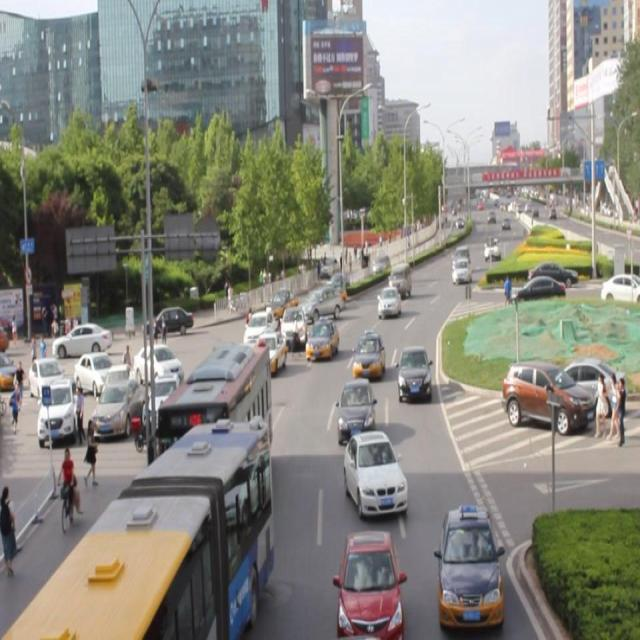BigCar: (17, 425, 284, 640), (152, 338, 268, 431)
car: (438, 498, 508, 636), (332, 527, 404, 639), (502, 359, 594, 435), (342, 433, 409, 513), (396, 340, 440, 404), (93, 381, 137, 436), (335, 378, 377, 431), (41, 383, 78, 438), (352, 325, 390, 378), (51, 320, 109, 354), (134, 342, 182, 383), (306, 318, 339, 366), (141, 304, 192, 335), (603, 269, 638, 314), (512, 274, 562, 304), (374, 288, 404, 320), (451, 255, 472, 284)
